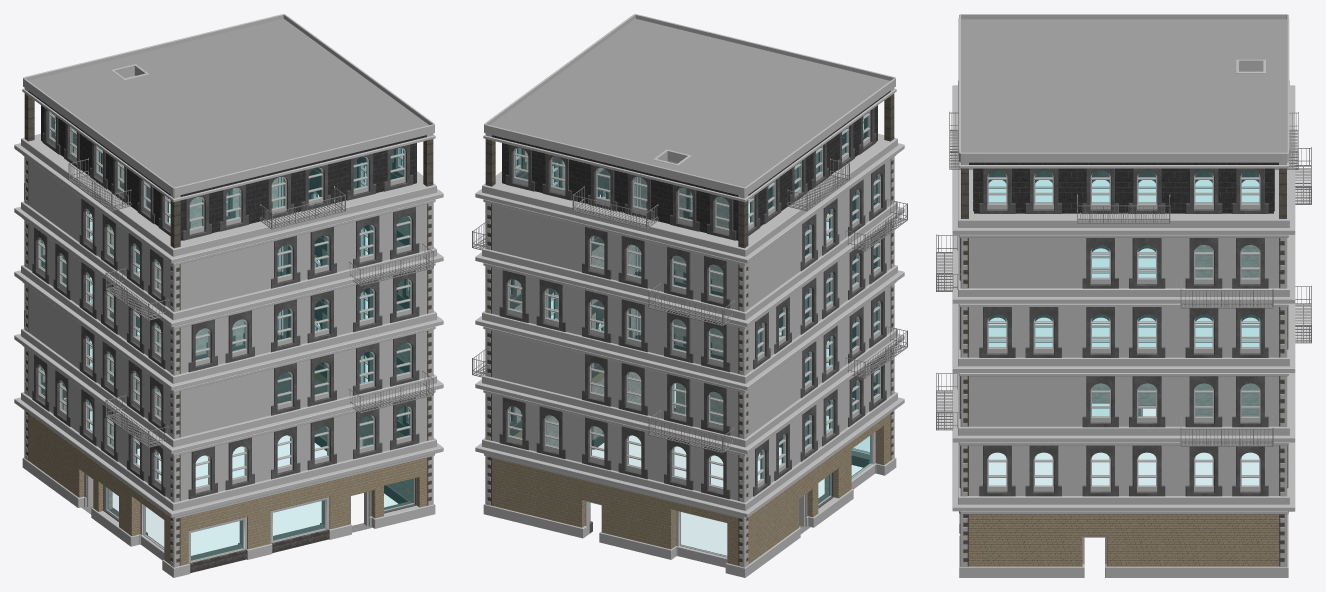
File: SM_Building20.fbx
3 renders of one model, left to right at view 1: azimuth 30°, elevation 25°; view 2: azimuth 150°, elevation 25°; view 3: azimuth 270°, elevation 25°, orthographic. The views are drawn at different scales.
Parts seen in each view (by area): view 1: SM_Building20; view 2: SM_Building20; view 3: SM_Building20.
Boxes of the visible parts, x1,y1,x2,y2 form: SM_Building20: (14, 14, 443, 577); SM_Building20: (472, 14, 907, 577); SM_Building20: (936, 14, 1311, 577).
Bounding box in the file's own units: 1992 × 2485 × 1992.
